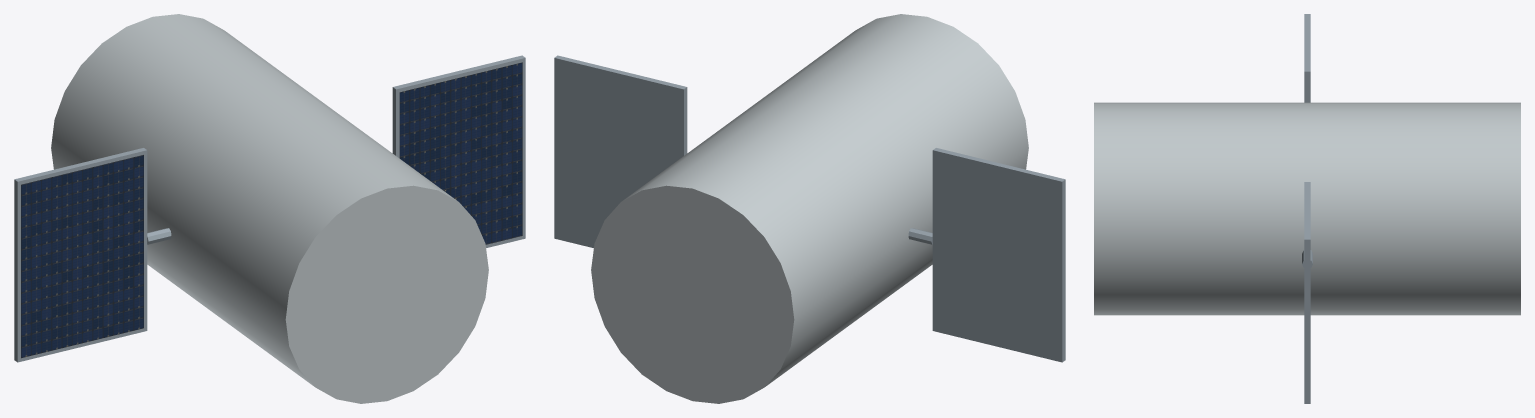
File: ref-oko-6192.glb
The picture shows the model from 3 angles, left to right: view 1: azimuth 30°, elevation 25°; view 2: azimuth 150°, elevation 25°; view 3: azimuth 270°, elevation 25°; orthographic projection. The views are drawn at different scales.
Visible parts, largest first — view 1: Spacecraft body, Photovoltaic laminates (×2), Array frame (×2); view 2: Spacecraft body, Array frame (×2); view 3: Spacecraft body, Array frame (×2).
Boxes of the visible parts, x1=… form: Spacecraft body: x1=51, y1=14, x2=488, y2=403; Photovoltaic laminates (×2): x1=21, y1=62, x2=522, y2=358; Array frame (×2): x1=14, y1=55, x2=525, y2=362; Spacecraft body: x1=591, y1=14, x2=1028, y2=403; Array frame (×2): x1=554, y1=55, x2=1065, y2=362; Spacecraft body: x1=1094, y1=102, x2=1520, y2=315; Array frame (×2): x1=1304, y1=14, x2=1310, y2=403.
Size of the model in its own units: 5 by 2 by 4.
Materials: 3 (1 with a texture image).
